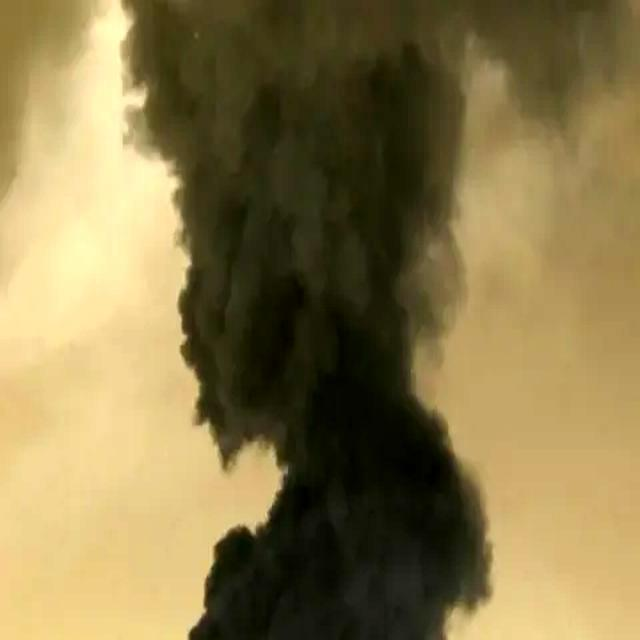no_helmet: (118, 0, 601, 640)
